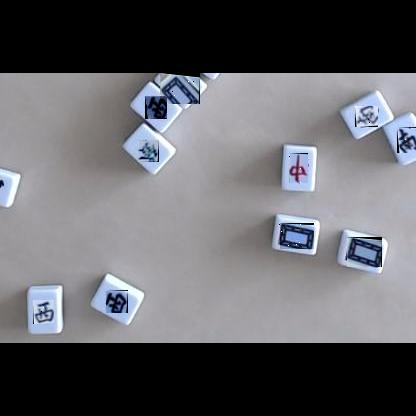2z: (397, 127, 416, 153), (355, 106, 378, 127)
3z: (145, 96, 167, 119), (106, 290, 128, 313), (33, 300, 54, 324)
5z: (160, 73, 200, 104), (347, 237, 382, 267), (279, 223, 314, 249)
6z: (138, 140, 159, 162)
7z: (289, 153, 308, 183)
